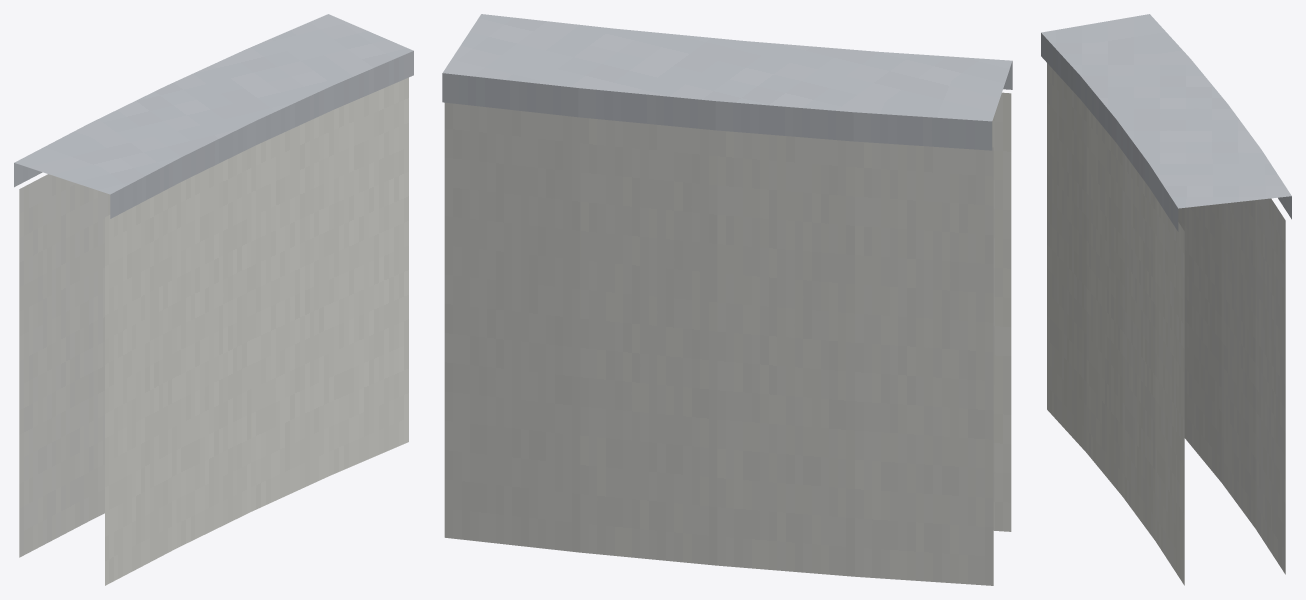
Rendered from curve_board_12.obj.
3 views of the same model, side by side, from view 1: azimuth 30°, elevation 25°; view 2: azimuth 150°, elevation 25°; view 3: azimuth 270°, elevation 25° (orthographic). The views are drawn at different scales.
Visible parts, largest first — view 1: curve_board_12; view 2: curve_board_12; view 3: curve_board_12.
Boxes of the visible parts, box(x1,y1,x2,y2) form: curve_board_12: box(14, 14, 413, 585); curve_board_12: box(442, 14, 1012, 585); curve_board_12: box(1041, 14, 1291, 585).
Size of the model in its own units: 1.1 by 1 by 0.6015.
